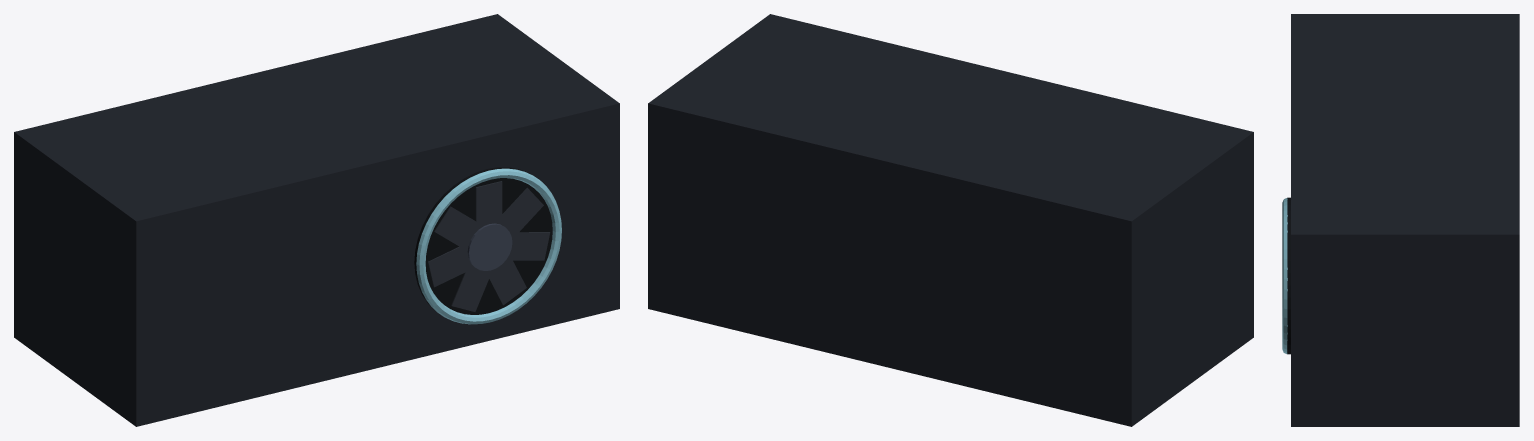
The model's file is psu.glb.
3 renders of one model, left to right at view 1: azimuth 30°, elevation 25°; view 2: azimuth 150°, elevation 25°; view 3: azimuth 270°, elevation 25°, orthographic. The views are drawn at different scales.
Parts seen in each view (by area): view 1: Carcasa, Disco, Aro, Cubo, Pala0_mesh, Pala6_mesh, Pala4_mesh, Pala1_mesh, Pala5_mesh, Pala3_mesh, Pala2_mesh; view 2: Carcasa; view 3: Carcasa, Aro, Disco.
Part boxes in pixels (x1,y1,x2,y2): Carcasa: (14, 14, 619, 426); Disco: (414, 167, 552, 314); Aro: (416, 168, 561, 324); Cubo: (467, 223, 512, 270); Pala0_mesh: (475, 181, 502, 225); Pala6_mesh: (434, 206, 483, 251); Pala4_mesh: (451, 262, 492, 311); Pala1_mesh: (502, 187, 543, 239); Pala5_mesh: (428, 246, 469, 287); Pala3_mesh: (489, 255, 526, 305); Pala2_mesh: (508, 232, 550, 260); Carcasa: (648, 14, 1253, 426); Carcasa: (1291, 14, 1519, 426); Aro: (1282, 198, 1287, 353); Disco: (1287, 197, 1290, 354).
Size of the model in its own units: 16 by 6.5 by 7.26.
